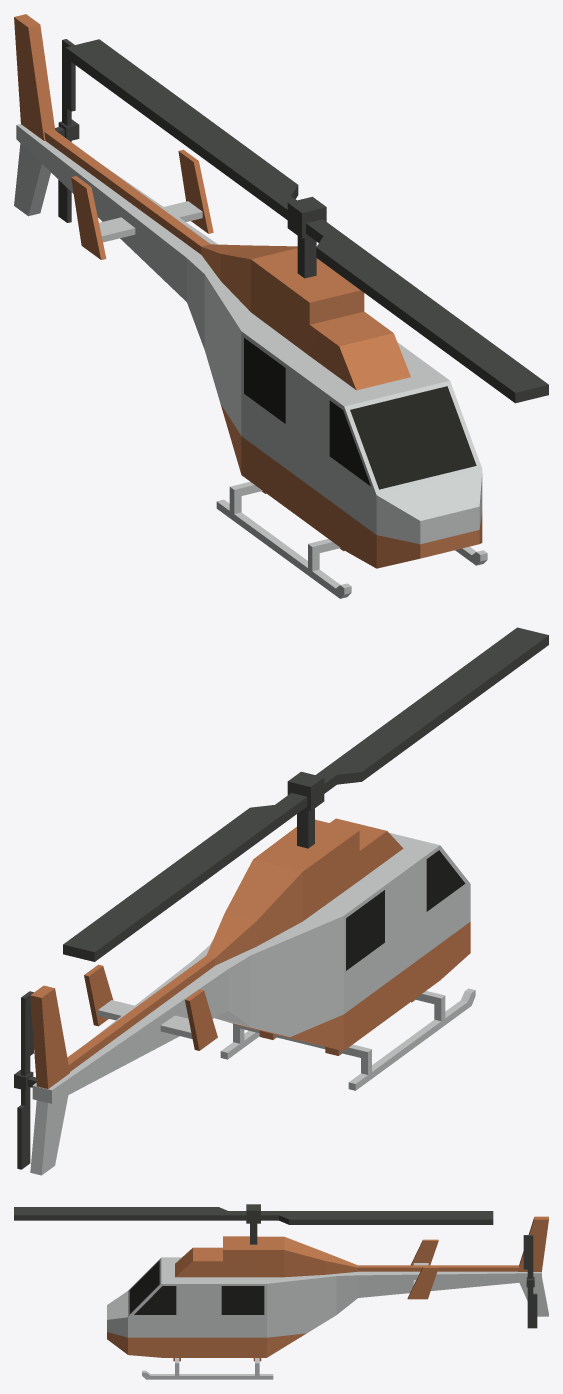
Rendered from Veh_Helicopter_01_Orange.glb.
3 renders of one model, top to bottom at view 1: azimuth 30°, elevation 25°; view 2: azimuth 150°, elevation 25°; view 3: azimuth 270°, elevation 25°, orthographic. The views are drawn at different scales.
Visible parts, largest first — view 1: Veh_Helicopter_01_Orange, Rotor_Main, Rotor_Tail; view 2: Veh_Helicopter_01_Orange, Rotor_Main, Rotor_Tail; view 3: Veh_Helicopter_01_Orange, Rotor_Main, Rotor_Tail.
Part boxes in pixels (x1,y1,x2,y2): Veh_Helicopter_01_Orange: (14,14,487,598); Rotor_Main: (65,39,548,403); Rotor_Tail: (55,39,79,222); Veh_Helicopter_01_Orange: (30,818,475,1175); Rotor_Main: (63,627,548,961); Rotor_Tail: (14,991,36,1169); Veh_Helicopter_01_Orange: (107,1216,548,1379); Rotor_Main: (14,1204,493,1244); Rotor_Tail: (523,1235,537,1328).
Size of the model in its own units: 1.02 by 2.05 by 6.44.
1 material, 1 textured.
